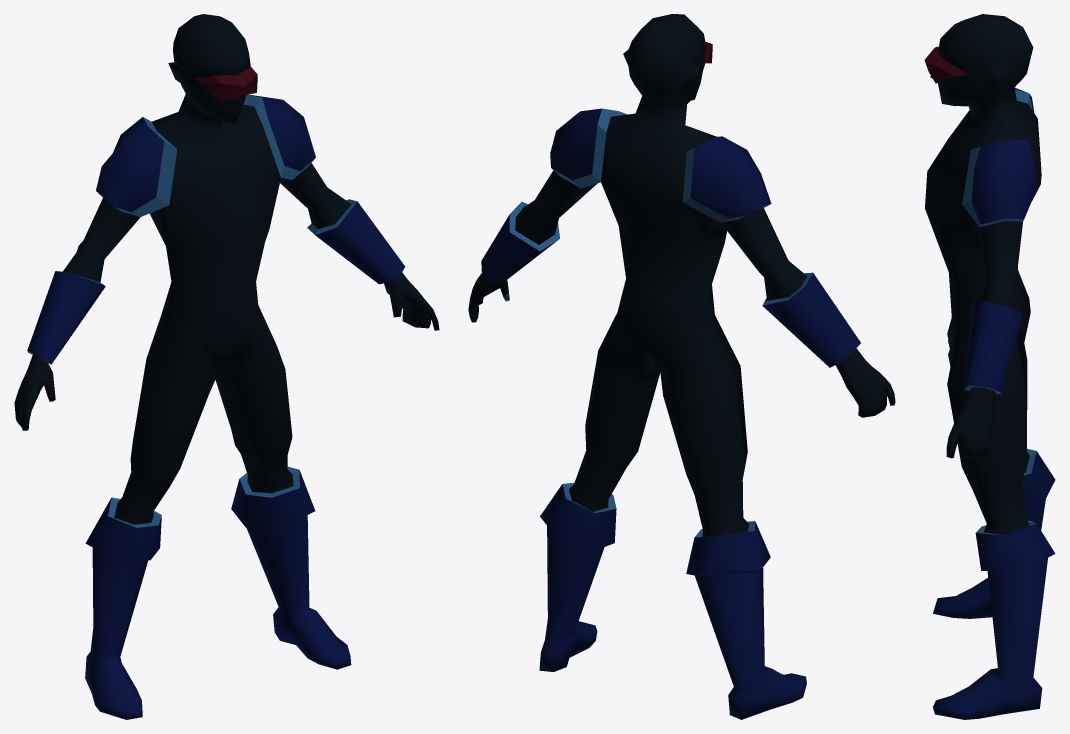
Rendered from Obj_Player.obj.
3 views of the same model, side by side, from view 1: azimuth 30°, elevation 25°; view 2: azimuth 150°, elevation 25°; view 3: azimuth 270°, elevation 25° (orthographic). The views are drawn at different scales.
Visible parts, largest first — view 1: Player; view 2: Player; view 3: Player.
Boxes of the visible parts, x1=… form: Player: x1=14, y1=14, x2=439, y2=719; Player: x1=468, y1=14, x2=895, y2=719; Player: x1=924, y1=14, x2=1055, y2=719.
Size of the model in its own units: 110 by 166 by 30.59.
